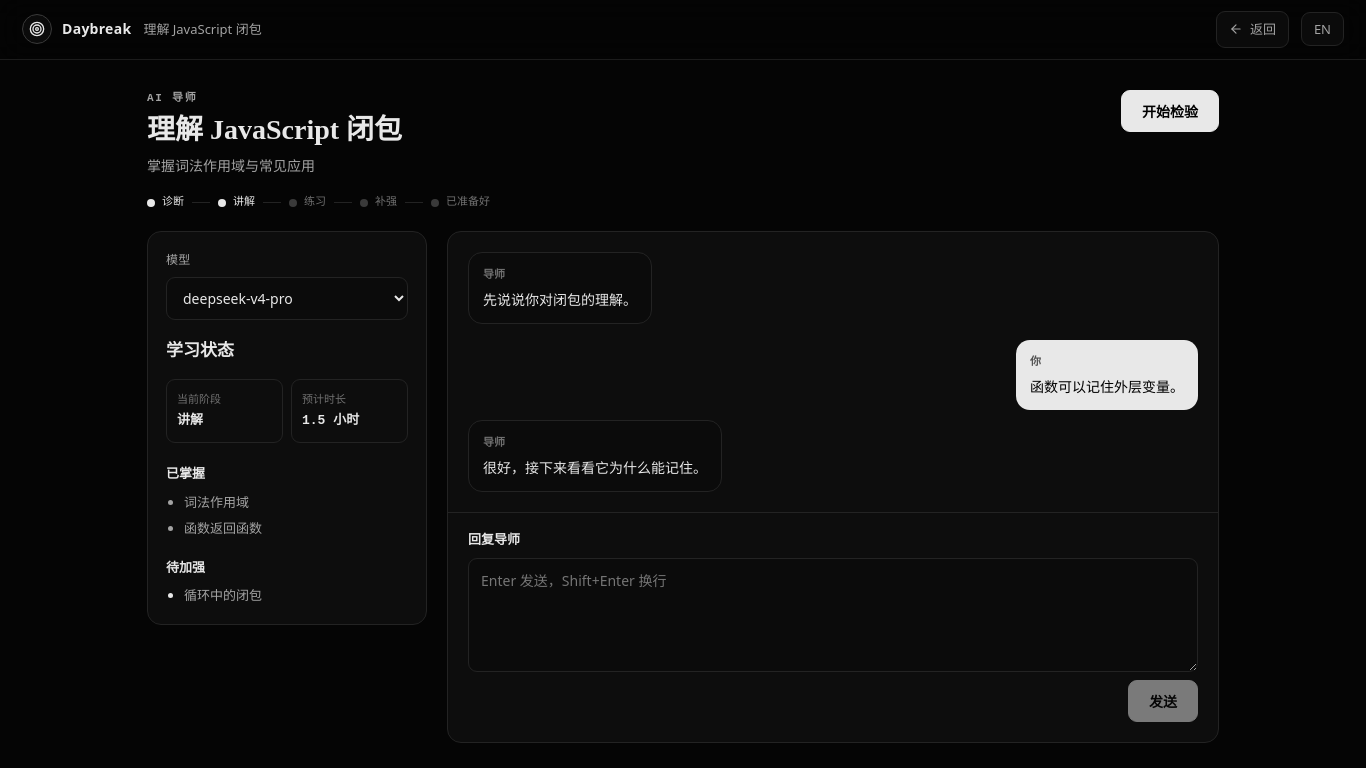
Test: LearningPage › preserves the textarea and exact request body across a failed send and retry
Type "我想用一个例子继续。" into the text box labelled "回复导师".
click(833, 615); type("我想用一个例子继续。")  # box [468,558,1198,672]
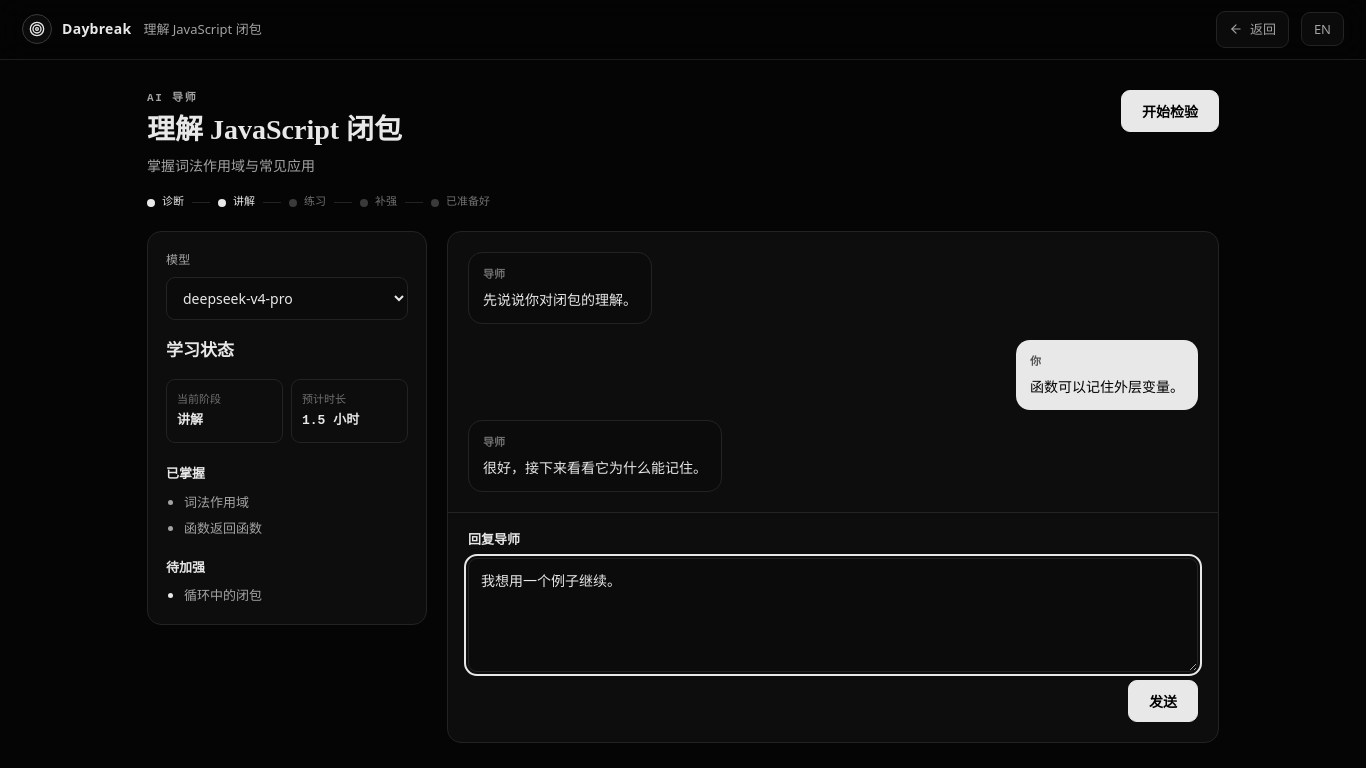
Click the button "发送".
click(1163, 701)  # box [1128,680,1198,722]
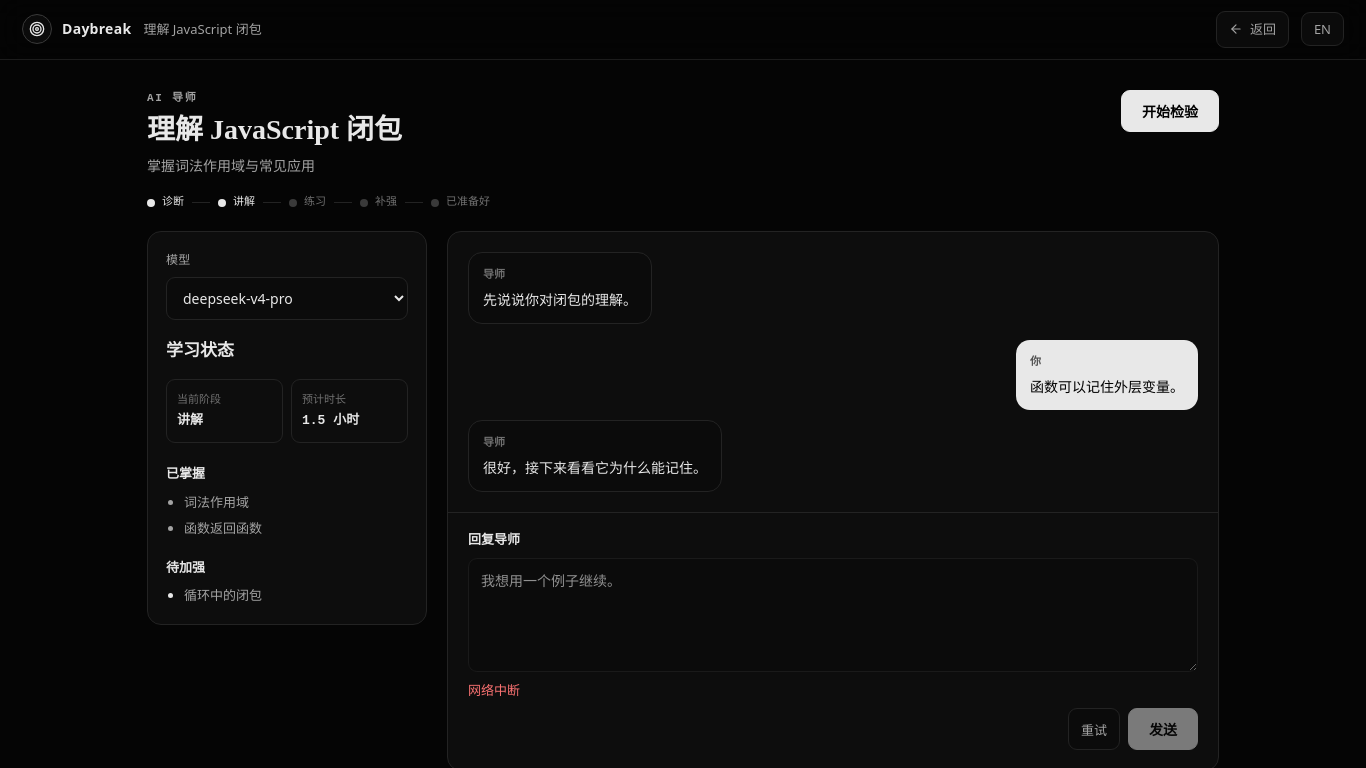
Expected: the message reads "网络中断", [468,681,520,699]
Expected: the text box labelled "回复导师" is disabled, [468,558,1198,672]
Click the button "重试".
click(1094, 730)  # box [1068,708,1120,750]
(page scrolled)
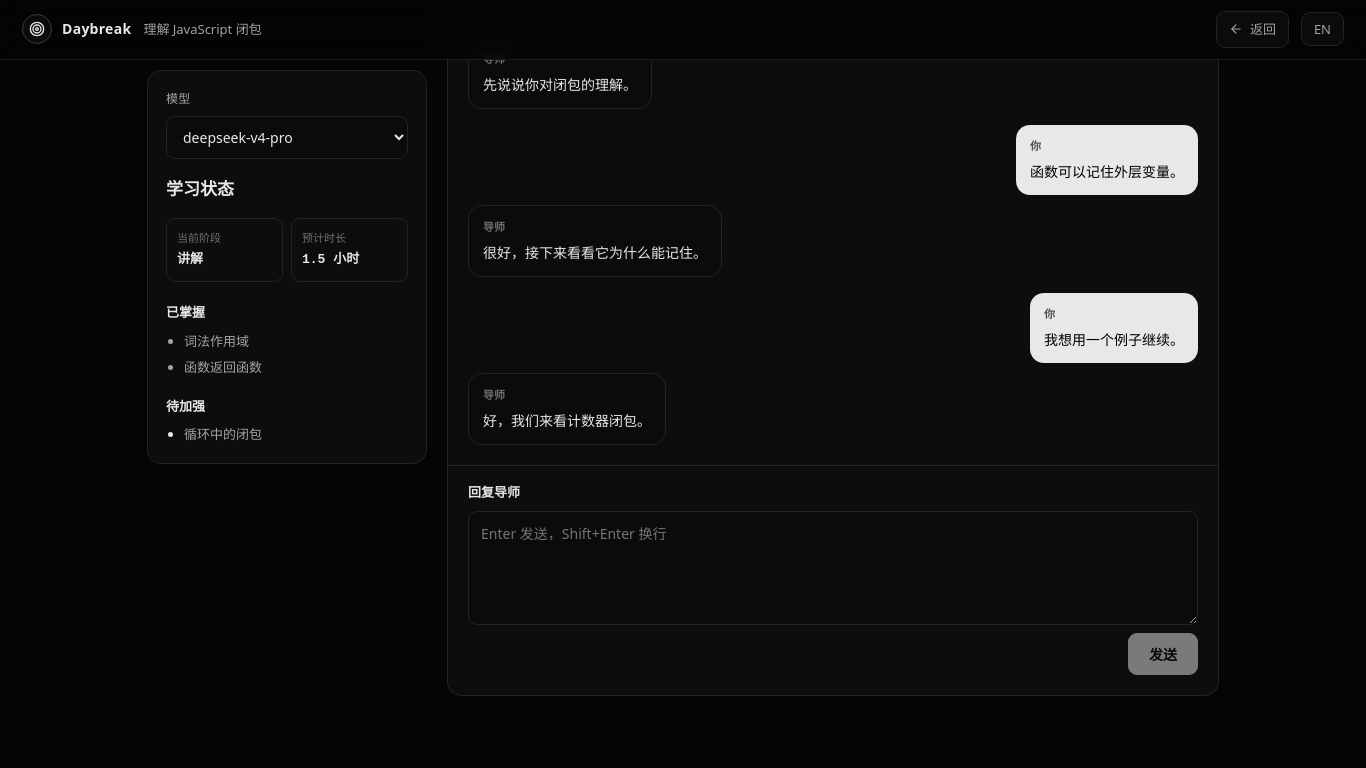
Expected: the text "好，我们来看计数器闭包。" is shown, [483,410,651,432]
Expected: the text box labelled "回复导师" is empty, [468,511,1198,625]
